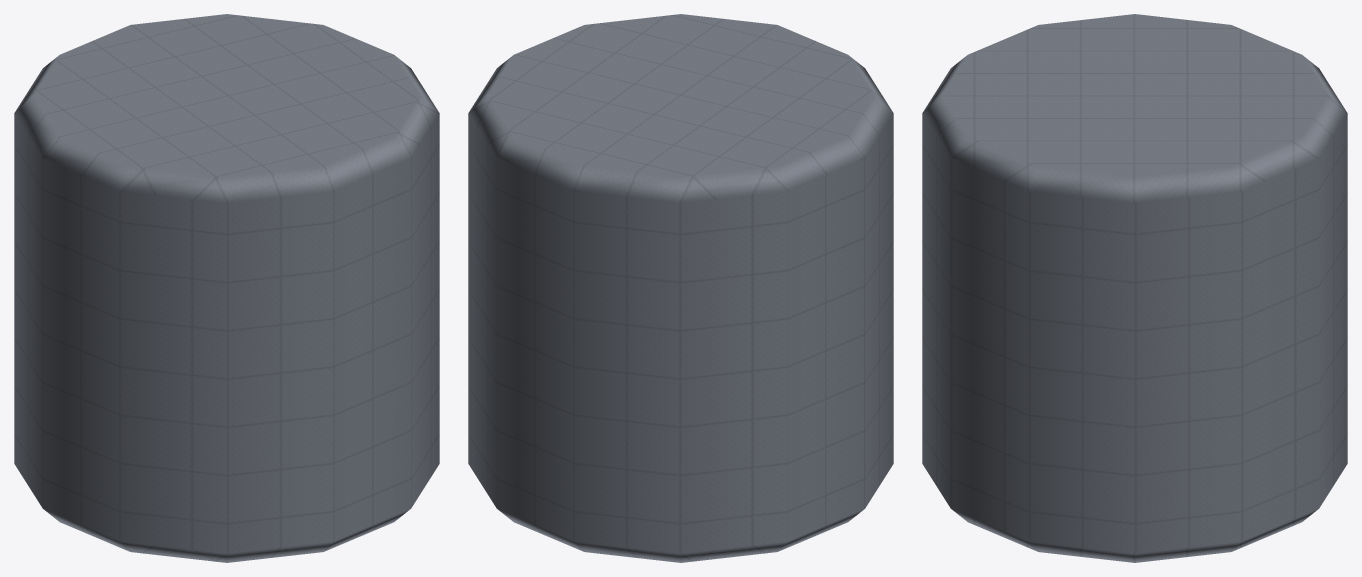
3 views of the same model, side by side, from view 1: azimuth 30°, elevation 25°; view 2: azimuth 150°, elevation 25°; view 3: azimuth 270°, elevation 25° (orthographic).
Visible parts, largest first — view 1: R4B_Cylinder_LOD1; view 2: R4B_Cylinder_LOD1; view 3: R4B_Cylinder_LOD1.
Part boxes in pixels (x1,y1,x2,y2): R4B_Cylinder_LOD1: (14,14,439,562); R4B_Cylinder_LOD1: (468,14,893,562); R4B_Cylinder_LOD1: (922,14,1347,562).
Bounding box in the file's own units: 0.52 × 0.52 × 0.52.
Materials: 1 (1 with a texture image).
